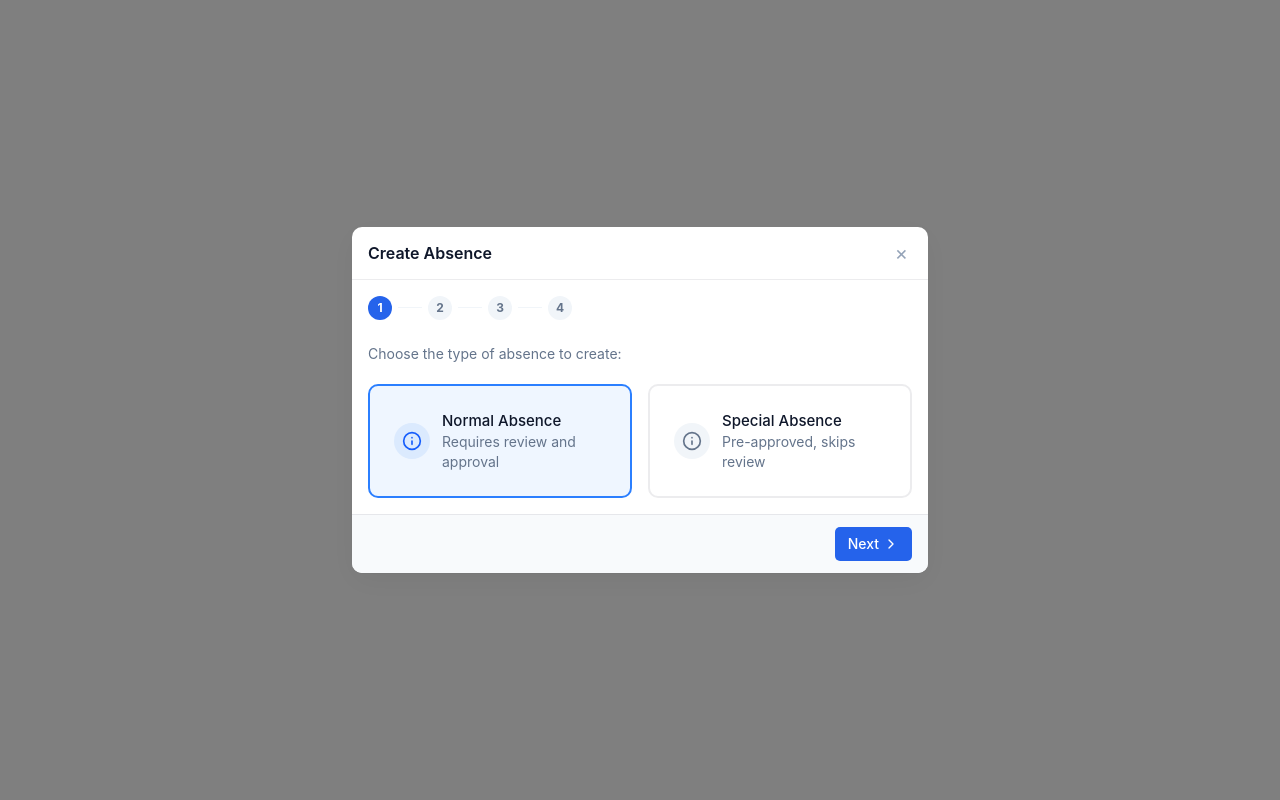
Test: StaffCreateAbsenceModal › renders step 1 with student lookup input
The image size is (1280, 800).
Click the button "Next": x=873, y=544 [835,527,912,561]
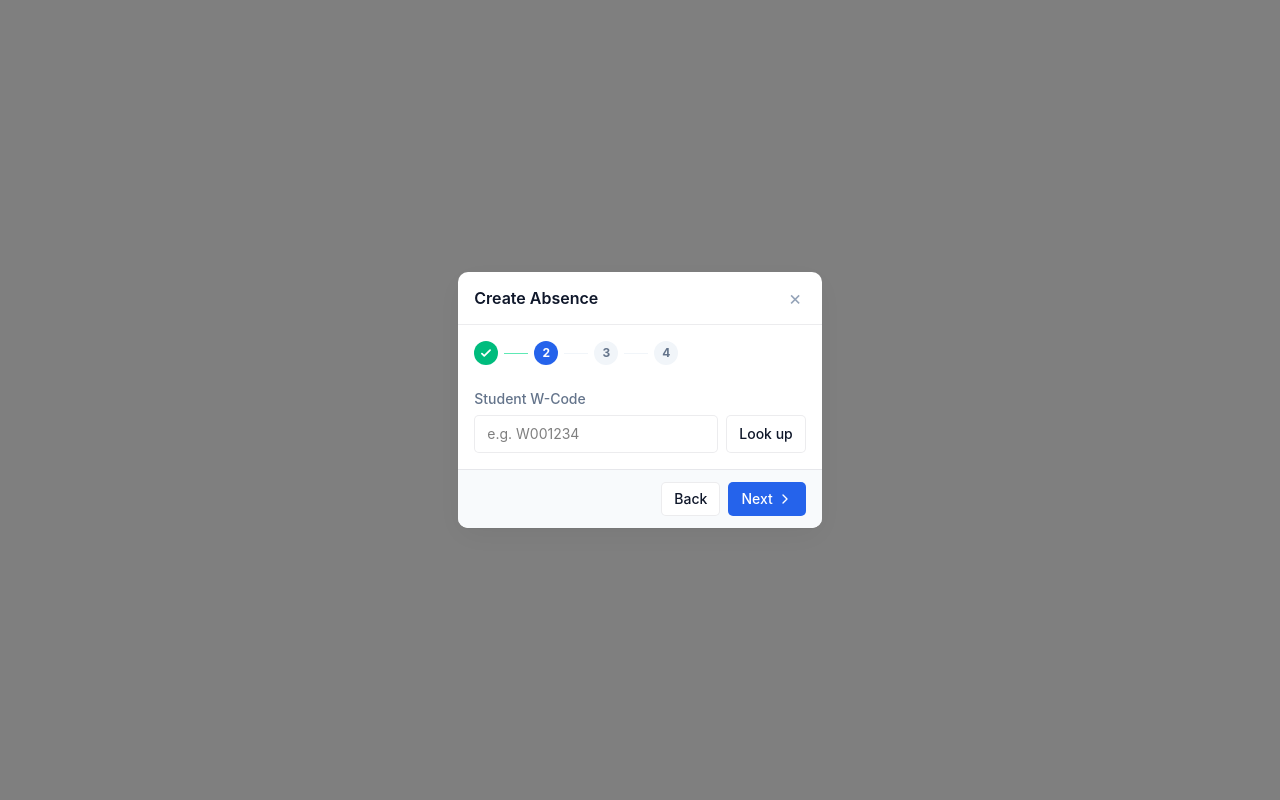
Check: the field labelled "Student W-Code" is shown, box [474,415,718,453]
